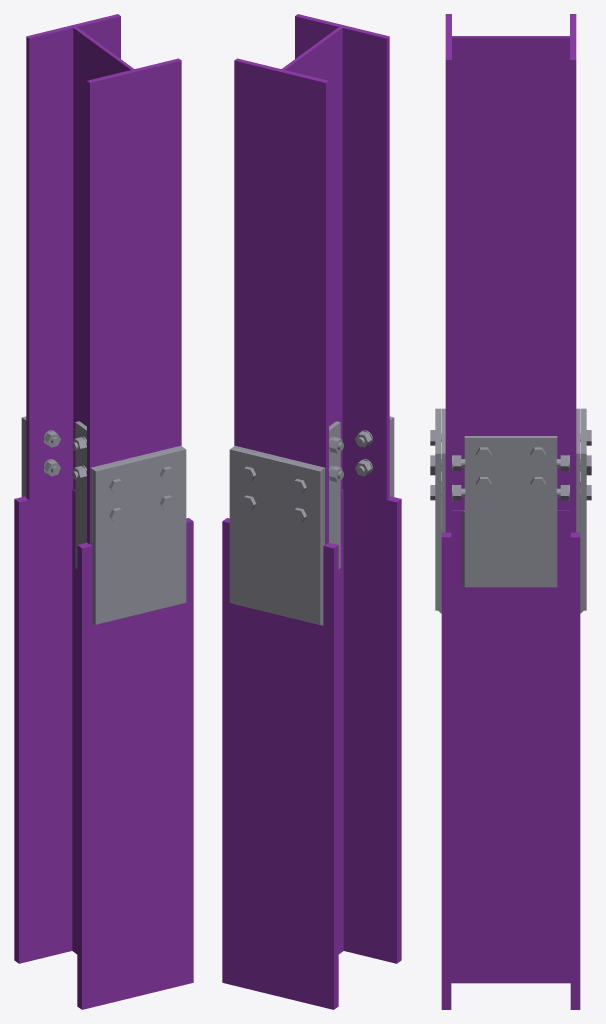
The model's file is Column Splice GLB.glb.
The picture shows the model from 3 angles, left to right: view 1: azimuth 30°, elevation 25°; view 2: azimuth 150°, elevation 25°; view 3: azimuth 270°, elevation 25°; orthographic projection. The views are drawn at different scales.
Parts seen in each view (by area): view 1: FamilyInstance Columns COLUMN <1240490 COLUMN<, FamilyInstance Columns COLUMN 356 <1241143 COLUMN 356<, FamilyInstance Structural Framing PLATE 330 <1241733 PLATE 3; view 2: FamilyInstance Columns COLUMN <1240490 COLUMN<, FamilyInstance Columns COLUMN 356 <1241143 COLUMN 356<, FamilyInstance Structural Framing PLATE 330 <1241738 PLATE 3; view 3: FamilyInstance Columns COLUMN <1240490 COLUMN<, FamilyInstance Columns COLUMN 356 <1241143 COLUMN 356<, FamilyInstance Structural Framing PLATE 330 <1241733 PLATE 3, FamilyInstance Structural Framing PLATE 330 <1241738 PLATE 3.
Boxes of the visible parts, box(x1,y1,x2,y2) form: FamilyInstance Columns COLUMN <1240490 COLUMN<: box(14, 416, 193, 1009); FamilyInstance Columns COLUMN 356 <1241143 COLUMN 356<: box(26, 14, 181, 544); FamilyInstance Structural Framing PLATE 330 <1241733 PLATE 3: box(90, 446, 182, 544); FamilyInstance Columns COLUMN <1240490 COLUMN<: box(222, 416, 401, 1009); FamilyInstance Columns COLUMN 356 <1241143 COLUMN 356<: box(234, 14, 389, 544); FamilyInstance Structural Framing PLATE 330 <1241738 PLATE 3: box(233, 446, 325, 544); FamilyInstance Columns COLUMN <1240490 COLUMN<: box(430, 408, 591, 1009); FamilyInstance Columns COLUMN 356 <1241143 COLUMN 356<: box(445, 14, 576, 532); FamilyInstance Structural Framing PLATE 330 <1241733 PLATE 3: box(442, 408, 445, 531); FamilyInstance Structural Framing PLATE 330 <1241738 PLATE 3: box(576, 408, 579, 531).
Bounding box in the file's own units: 12.13 × 96 × 14.87.
